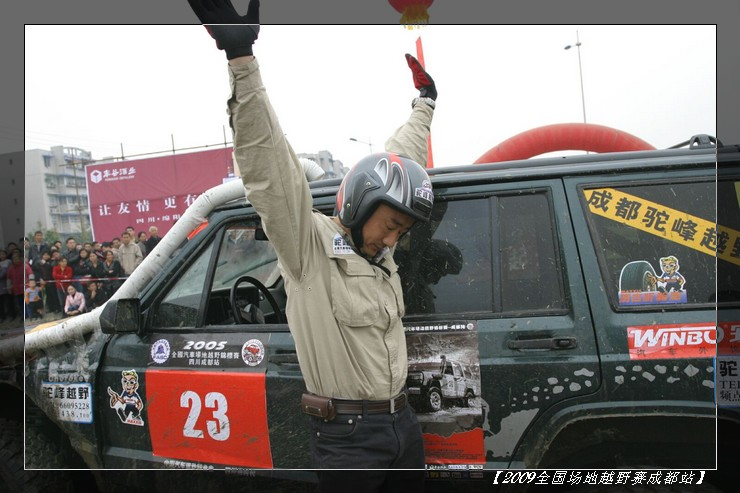handsup: (182, 1, 522, 485)
